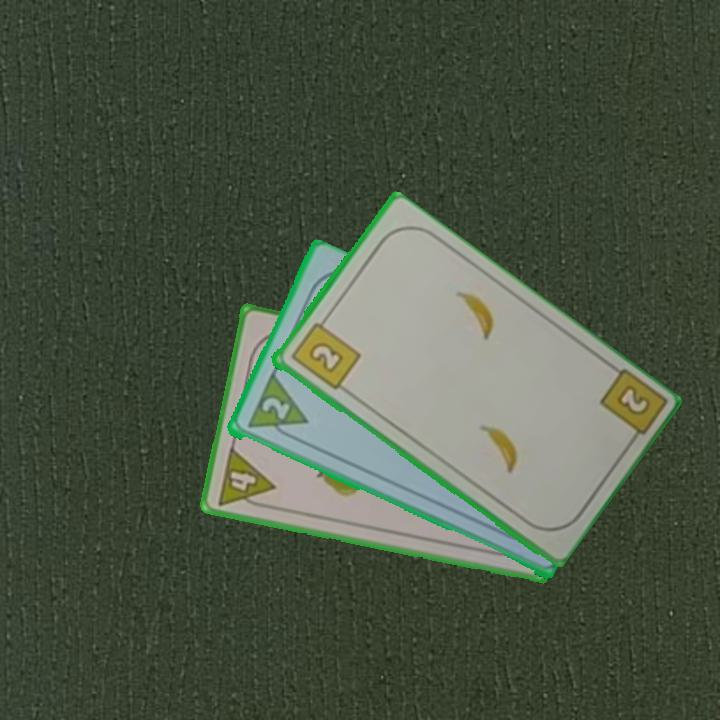2b: (287, 313, 363, 393), (595, 365, 666, 450)
2p: (257, 393, 292, 424)
4p: (213, 443, 278, 513)
